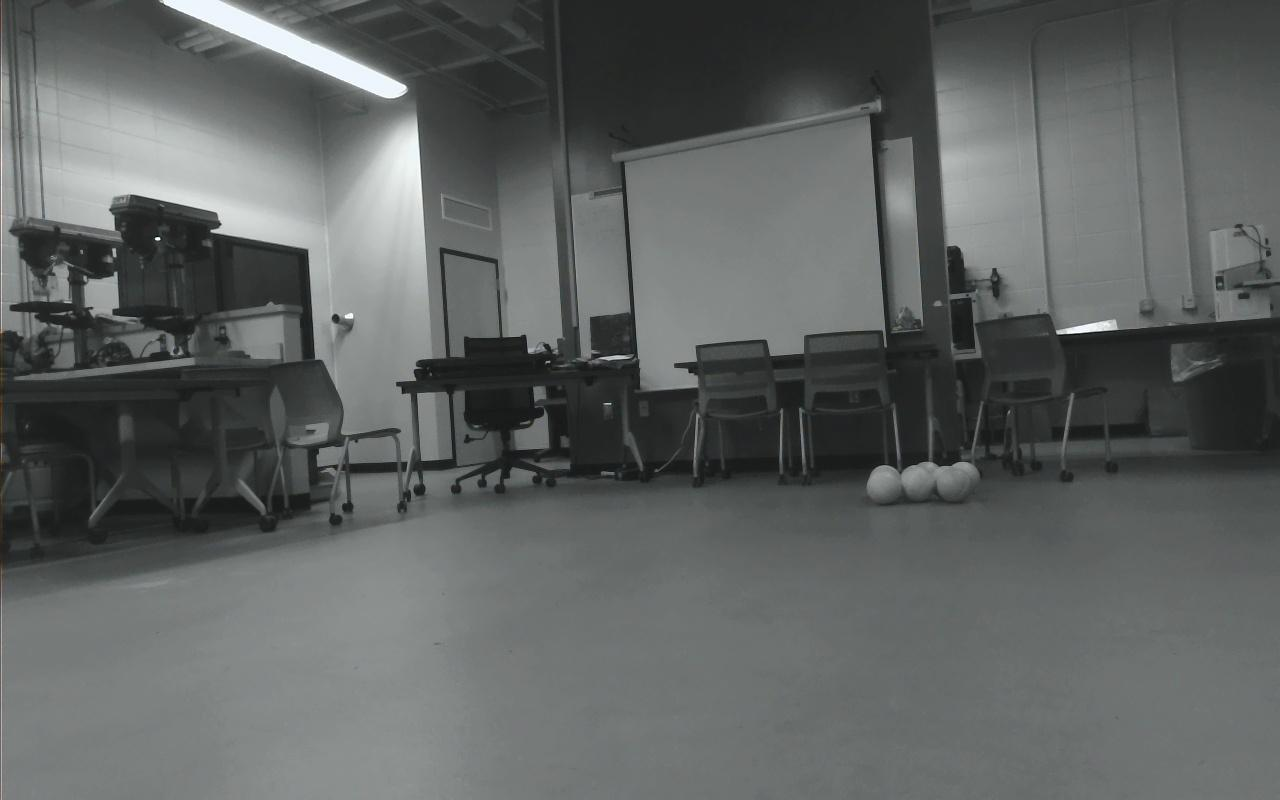Fuel: (899, 466, 936, 502), (900, 464, 935, 501), (938, 468, 974, 503), (867, 471, 902, 506), (868, 468, 902, 501), (948, 462, 980, 493), (930, 466, 960, 497), (913, 462, 943, 490), (868, 464, 900, 489)
